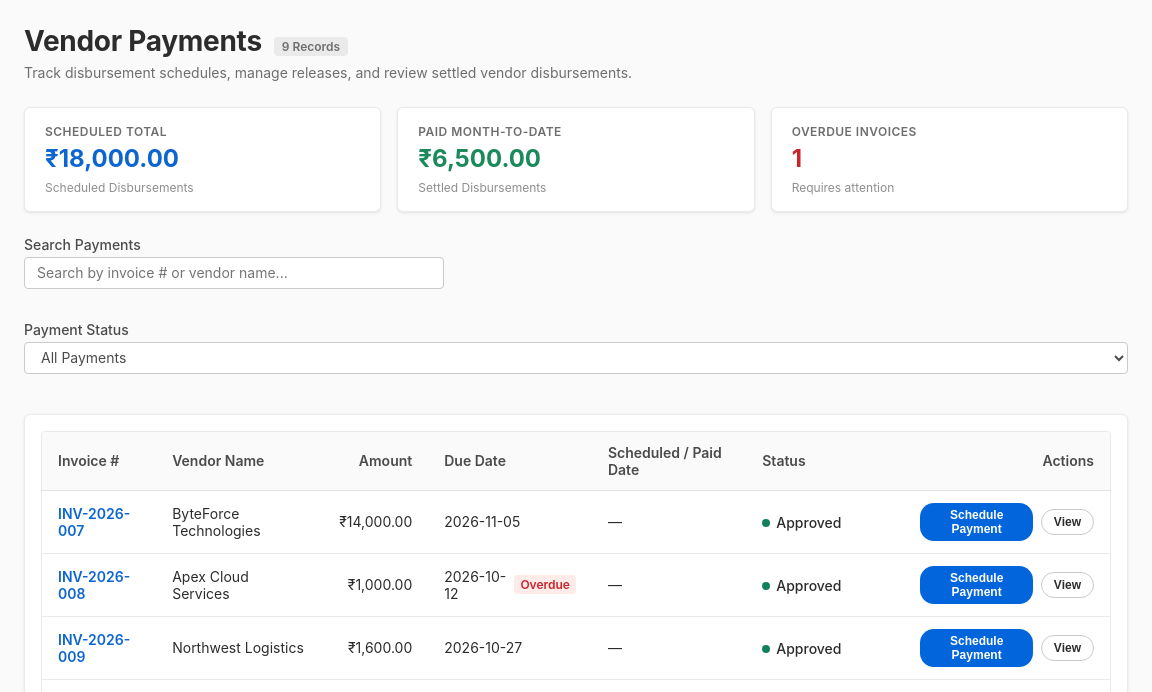
Test case: PaymentsPage › Payment Disbursement Actions › cancels SchedulePaymentModal without changes when Cancel is clicked
This screenshot has width=1152, height=692.
Click the button with test id "action-schedule-inv-7".
click(977, 522)  # box top-left (920, 503), bottom-right (1033, 541)
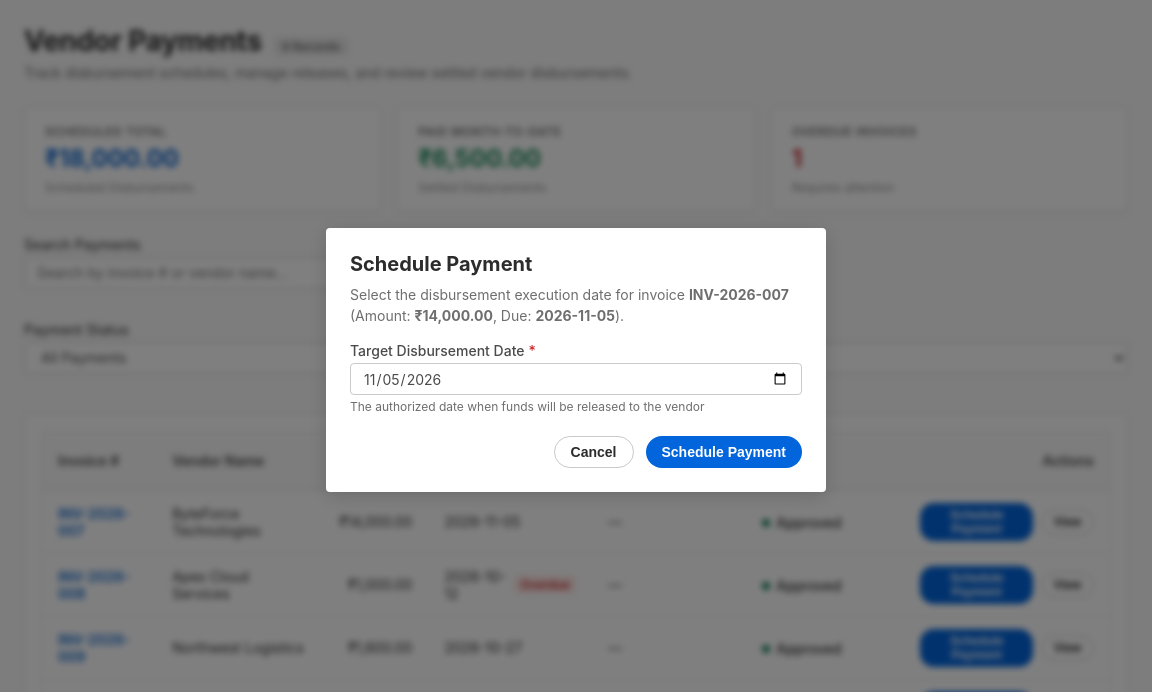
Now the dialog with test id "schedule-payment-modal-dialog" is shown, box top-left (326, 228), bottom-right (826, 492)
Click the button with test id "cancel-schedule-payment-btn".
click(594, 452)  # box top-left (554, 436), bottom-right (634, 468)
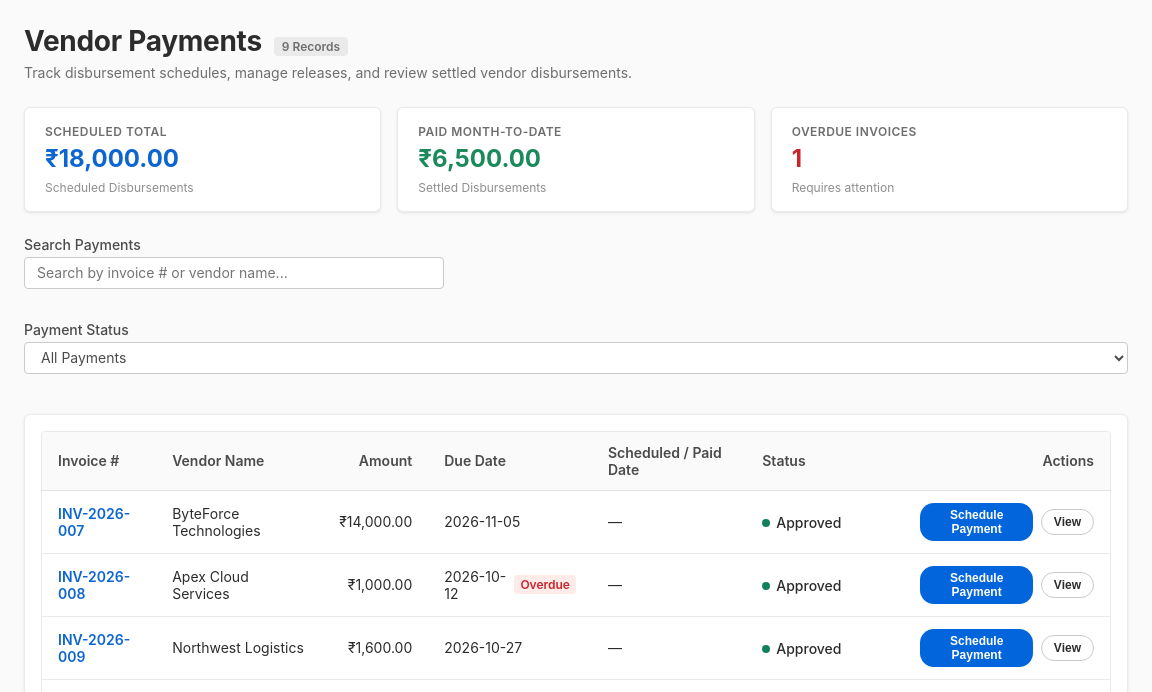
Now the dialog with test id "schedule-payment-modal-dialog" is gone
